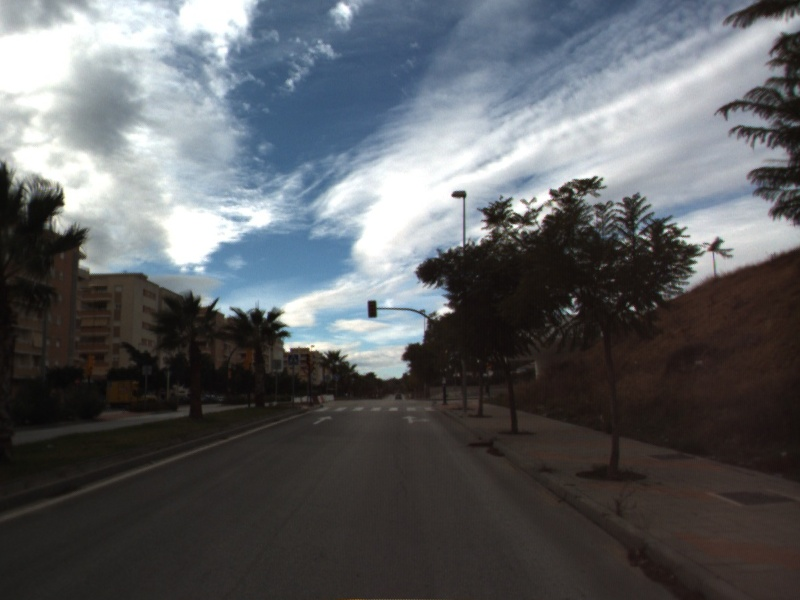STRAIGHT: (311, 413, 335, 426)
STRAIGHT_RIGHT: (400, 412, 432, 425)
